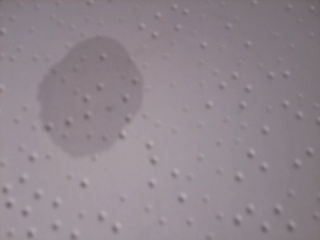Water_detected: (52, 52, 133, 146)
